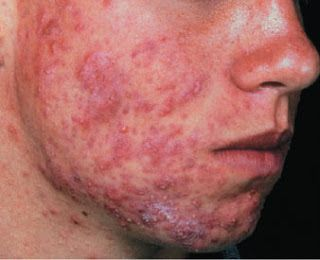Eksim: (4, 1, 272, 254)
